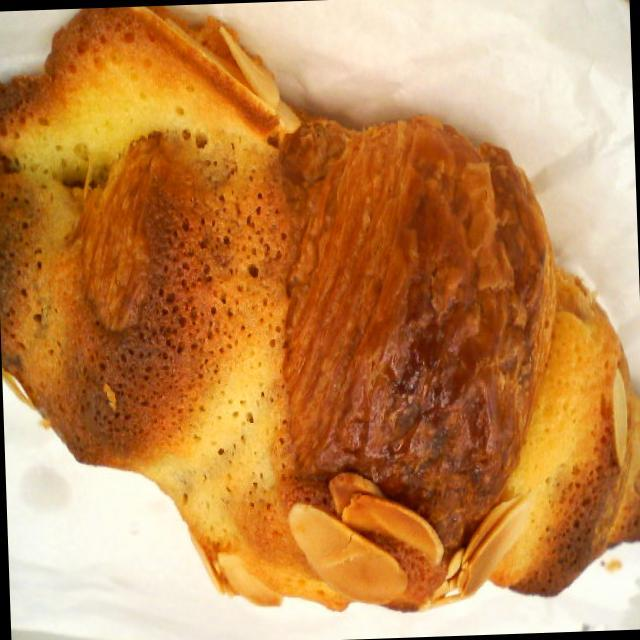Croissant: (0, 0, 640, 637)
